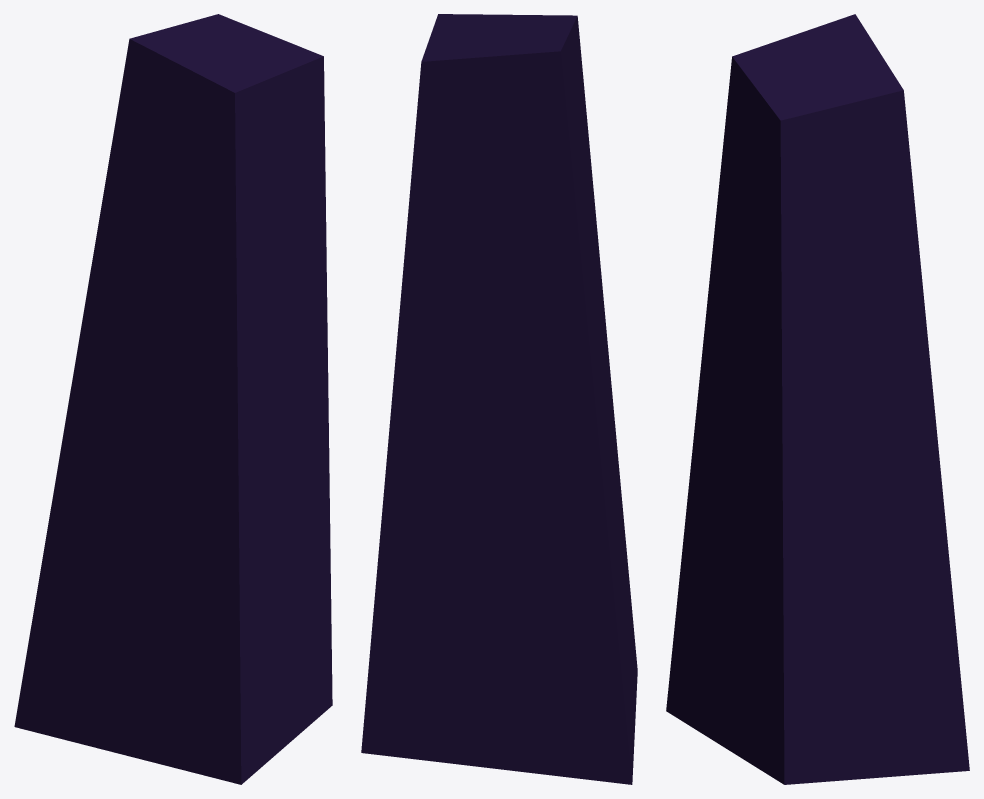
The model's file is stone_011_grp.fbx.
3 renders of one model, left to right at view 1: azimuth 30°, elevation 25°; view 2: azimuth 150°, elevation 25°; view 3: azimuth 270°, elevation 25°, orthographic.
Visible parts, largest first — view 1: stone_011_grp; view 2: stone_011_grp; view 3: stone_011_grp.
Part boxes in pixels (x1,y1,x2,y2): stone_011_grp: [14, 14, 332, 784]; stone_011_grp: [361, 14, 637, 784]; stone_011_grp: [666, 14, 969, 784].
Size of the model in its own units: 40 by 100 by 40.
